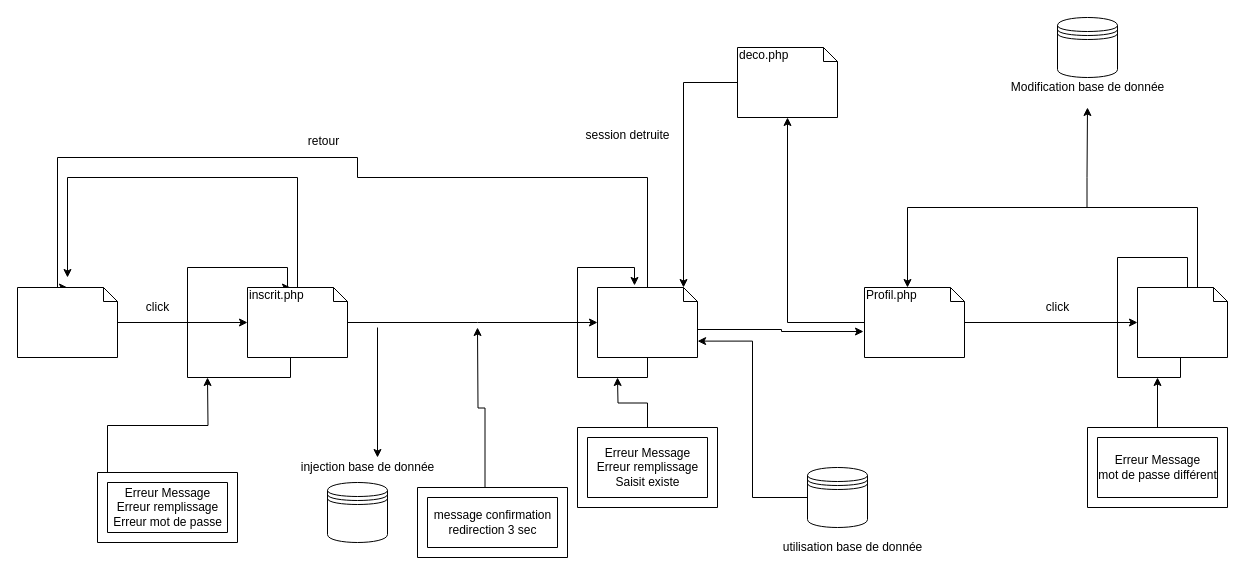
The diagram is 1245 pixels wide and 575 high, and some of its shapes have lost their labels. The shapes that lost their labels are listed below. From the top down, each one's centre as x and y in pixels, then its label:
At point 67,322: "index.php".
At point 647,322: "login.php".
At point 1182,322: "édition.php".
